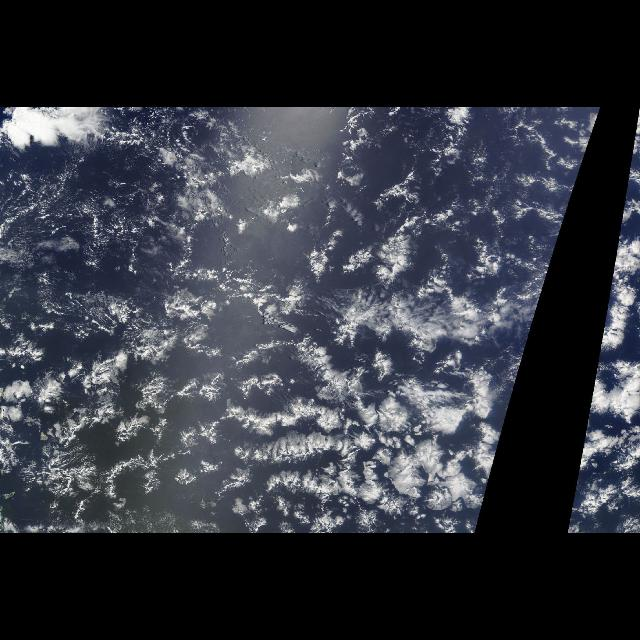Flower: (1, 261, 544, 534)
